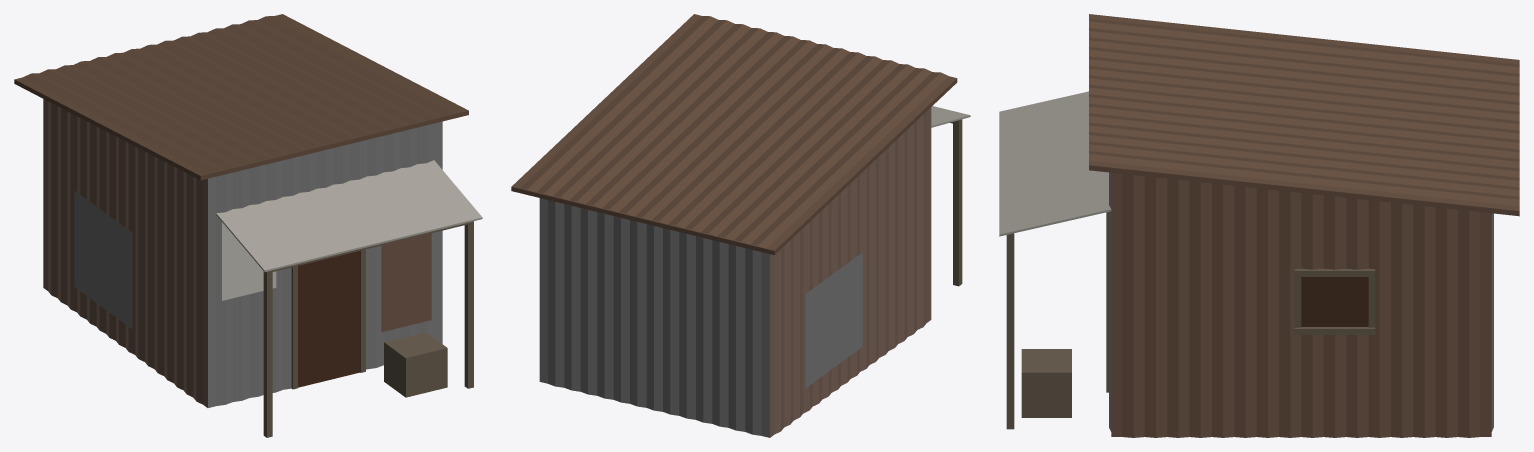
The model's file is fill3_close.fbx.
3 renders of one model, left to right at view 1: azimuth 30°, elevation 25°; view 2: azimuth 150°, elevation 25°; view 3: azimuth 270°, elevation 25°, orthographic. The views are drawn at different scales.
Parts seen in each view (by area): view 1: a2014/0/fill3_close; view 2: a2014/0/fill3_close; view 3: a2014/0/fill3_close.
Part boxes in pixels (<box>): a2014/0/fill3_close: <box>14,14,482,437</box>; a2014/0/fill3_close: <box>511,14,970,437</box>; a2014/0/fill3_close: <box>999,14,1519,437</box>.
Bounding box in the file's own units: 3.2 × 2.79 × 4.65.
